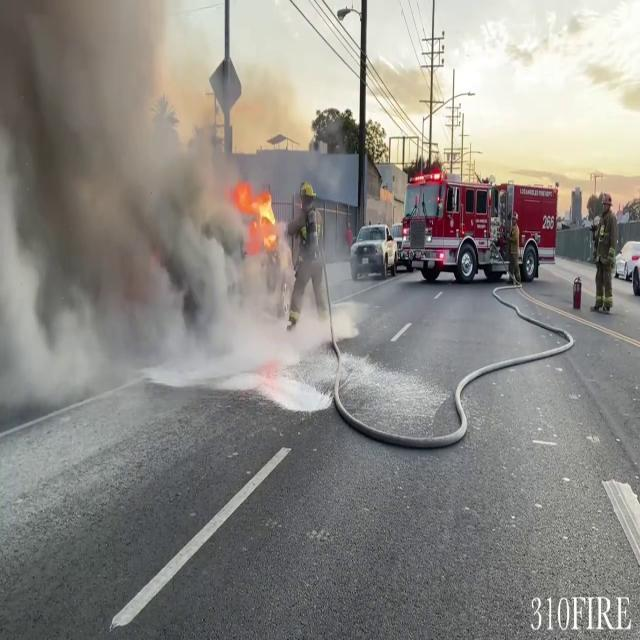Fire: (231, 174, 281, 252)
Smoke: (0, 0, 264, 410)
